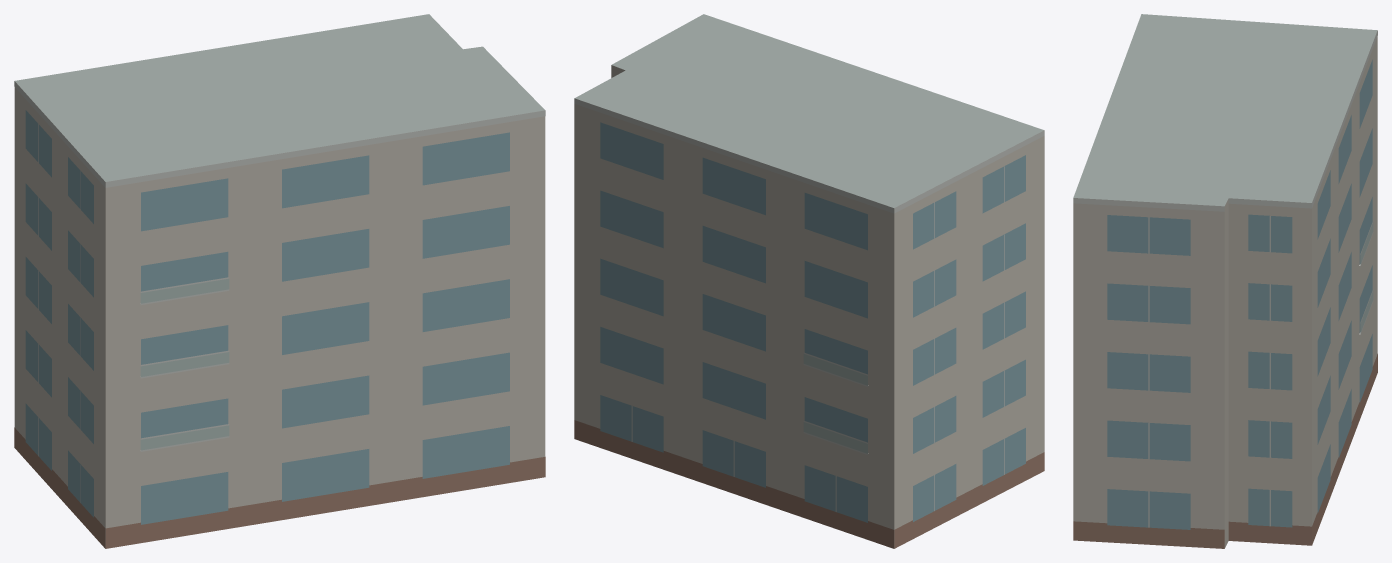
Rendered from survey-upis-32740493.glb.
3 renders of one model, left to right at view 1: azimuth 30°, elevation 25°; view 2: azimuth 150°, elevation 25°; view 3: azimuth 270°, elevation 25°, orthographic. The views are drawn at different scales.
Visible parts, largest first — view 1: survey-upis-32740493.tmp; view 2: survey-upis-32740493.tmp; view 3: survey-upis-32740493.tmp.
Boxes of the visible parts, left/top/right/bottom form: survey-upis-32740493.tmp: left=14, top=14, right=545, bottom=548; survey-upis-32740493.tmp: left=574, top=14, right=1044, bottom=548; survey-upis-32740493.tmp: left=1073, top=14, right=1377, bottom=548.
Size of the model in its own units: 18.37 by 15.25 by 12.29.
